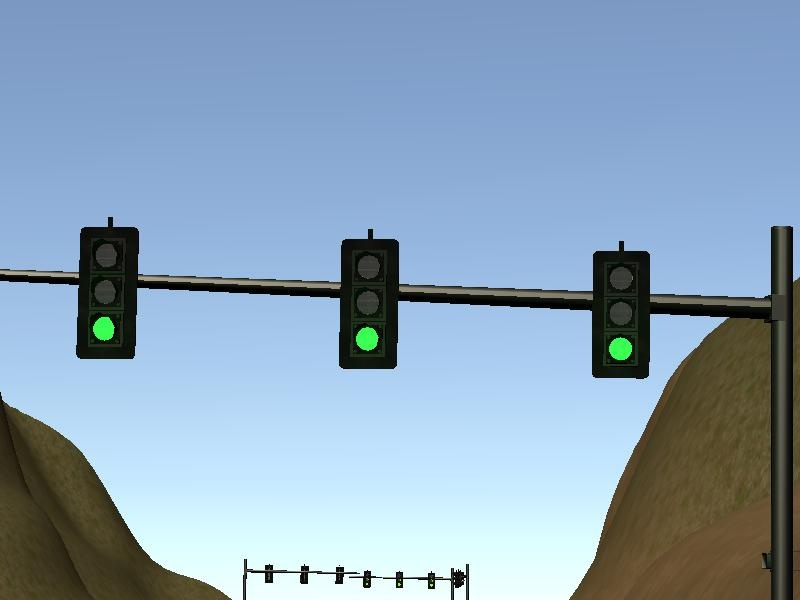green: (336, 234, 401, 376), (77, 223, 139, 364), (591, 248, 651, 382)
